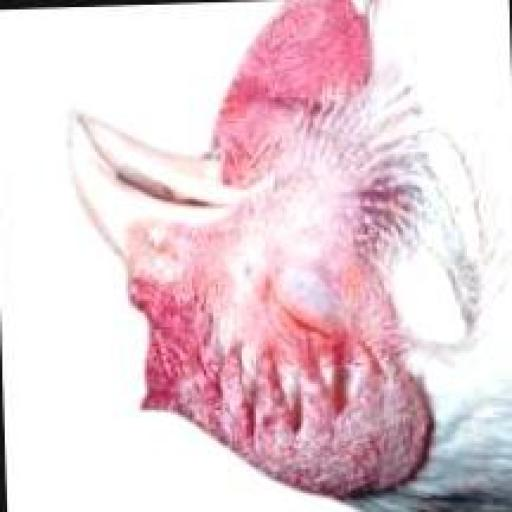disease: (198, 191, 351, 364)
